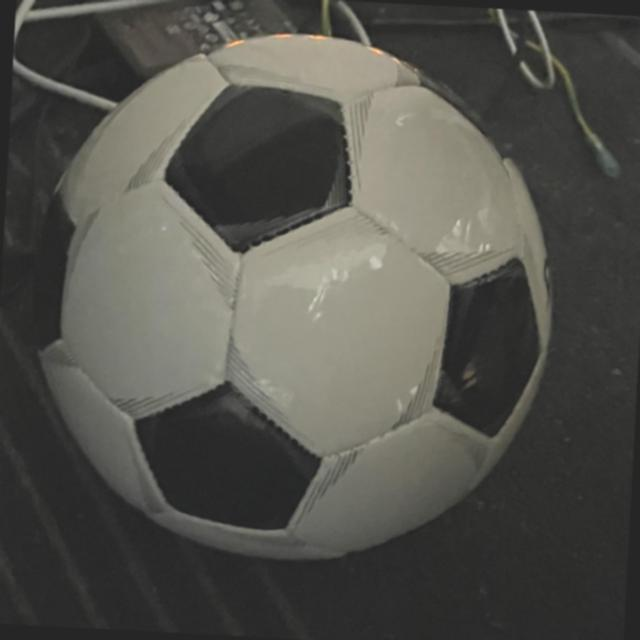Soccer Ball: (19, 19, 568, 576)
